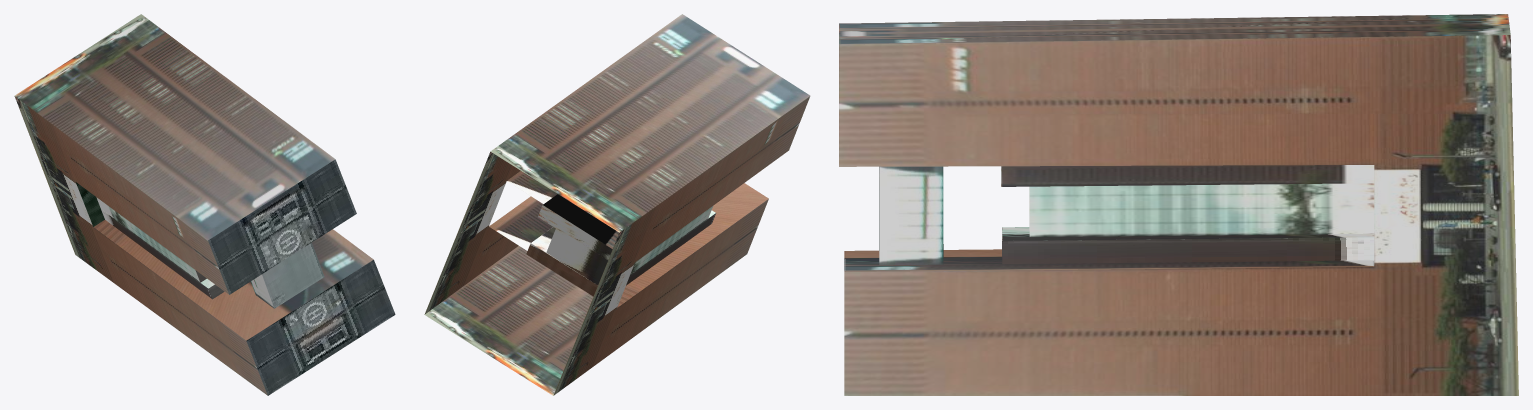
The picture shows the model from 3 angles, left to right: view 1: azimuth 30°, elevation 25°; view 2: azimuth 150°, elevation 25°; view 3: azimuth 270°, elevation 25°; orthographic projection. The views are drawn at different scales.
Parts seen in each view (by area): view 1: IndexedFaceSet__4_0, IndexedFaceSet__1_0, IndexedFaceSet__32_0, IndexedFaceSet__13_0, IndexedFaceSet__10_0, IndexedFaceSet__2_0, IndexedFaceSet__27_0, IndexedFaceSet__16_0, IndexedFaceSet__9_0, IndexedFaceSet__6_0; view 2: IndexedFaceSet__4_0, IndexedFaceSet__1_0, IndexedFaceSet__12_0, IndexedFaceSet, IndexedFaceSet__10_0, IndexedFaceSet__29_0, IndexedFaceSet__24_0, IndexedFaceSet__23_0, IndexedFaceSet__17_0, IndexedFaceSet__27_0, IndexedFaceSet__8_0, IndexedFaceSet__16_0 (+1 smaller); view 3: IndexedFaceSet, IndexedFaceSet__26_0, IndexedFaceSet__4_0, IndexedFaceSet__14_0, IndexedFaceSet__15_0, IndexedFaceSet__11_0, IndexedFaceSet__10_0, IndexedFaceSet__18_0.
Part boxes in pixels (box(x1,y1,x2,y2)): IndexedFaceSet__4_0: box(14, 14, 334, 240); IndexedFaceSet__1_0: box(14, 96, 267, 395); IndexedFaceSet__32_0: box(246, 260, 395, 395); IndexedFaceSet__13_0: box(208, 159, 356, 294); IndexedFaceSet__10_0: box(93, 220, 373, 340); IndexedFaceSet__2_0: box(262, 242, 324, 308); IndexedFaceSet__27_0: box(96, 197, 200, 282); IndexedFaceSet__16_0: box(101, 209, 211, 298); IndexedFaceSet__9_0: box(76, 182, 104, 226); IndexedFaceSet__6_0: box(251, 274, 273, 308); IndexedFaceSet__4_0: box(490, 14, 810, 232); IndexedFaceSet__1_0: box(553, 96, 810, 395); IndexedFaceSet__12_0: box(425, 246, 593, 395); IndexedFaceSet: box(424, 151, 520, 314); IndexedFaceSet__10_0: box(489, 183, 768, 307); IndexedFaceSet__29_0: box(546, 228, 607, 285); IndexedFaceSet__24_0: box(543, 194, 618, 248); IndexedFaceSet__23_0: box(538, 205, 612, 259); IndexedFaceSet__17_0: box(526, 243, 597, 296); IndexedFaceSet__27_0: box(630, 205, 713, 274); IndexedFaceSet__8_0: box(507, 171, 557, 203); IndexedFaceSet__16_0: box(626, 213, 715, 285); IndexedFaceSet: box(839, 35, 1518, 395); IndexedFaceSet__26_0: box(1029, 183, 1374, 236); IndexedFaceSet__4_0: box(839, 14, 1510, 44); IndexedFaceSet__14_0: box(1002, 237, 1374, 263); IndexedFaceSet__15_0: box(1001, 165, 1374, 186); IndexedFaceSet__11_0: box(879, 166, 943, 265); IndexedFaceSet__10_0: box(844, 249, 1374, 271); IndexedFaceSet__18_0: box(1002, 227, 1374, 240).
Bounding box in the file's own units: 64.94 × 73.62 × 115.
27 materials, 27 textured.
